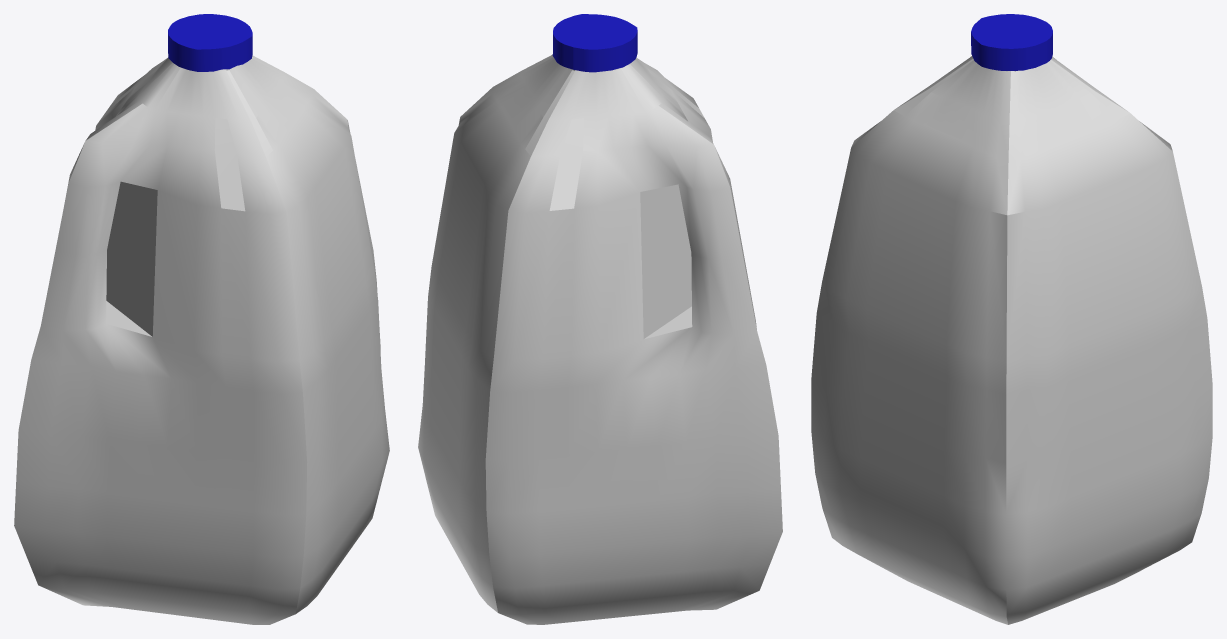
Rendered from milk_jug.fbx.
3 views of the same model, side by side, from view 1: azimuth 30°, elevation 25°; view 2: azimuth 150°, elevation 25°; view 3: azimuth 270°, elevation 25° (orthographic).
Visible parts, largest first — view 1: pCube3, pCube4; view 2: pCube3, pCube4; view 3: pCube3, pCube4.
Boxes of the visible parts, x1=… form: pCube3: x1=14, y1=55, x2=389, y2=624; pCube4: x1=168, y1=14, x2=252, y2=71; pCube3: x1=418, y1=54, x2=782, y2=624; pCube4: x1=552, y1=14, x2=637, y2=72; pCube3: x1=811, y1=56, x2=1212, y2=624; pCube4: x1=971, y1=14, x2=1052, y2=70.
Size of the model in its own units: 0.5185 by 0.7492 by 0.5046.
